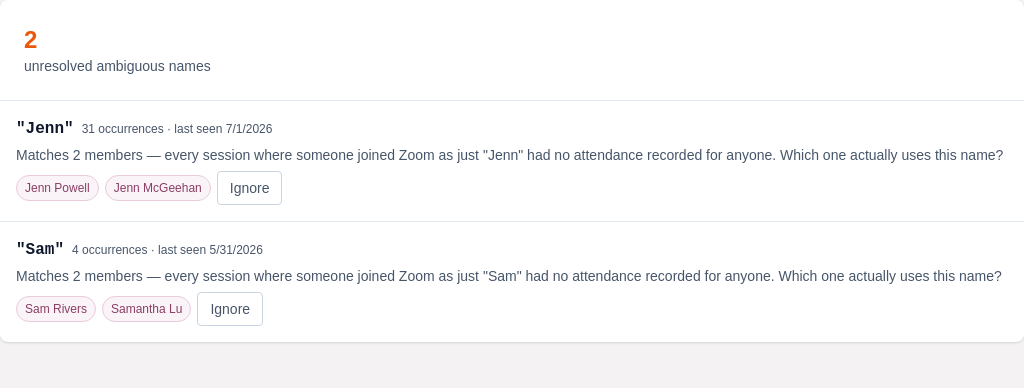
it: AmbiguousNamesResolver › shows an error and keeps the row when the request fails
The width and height of the screenshot is (1024, 388).
Click the button "Jenn Powell" at point(57, 188), box [16,175,99,201]
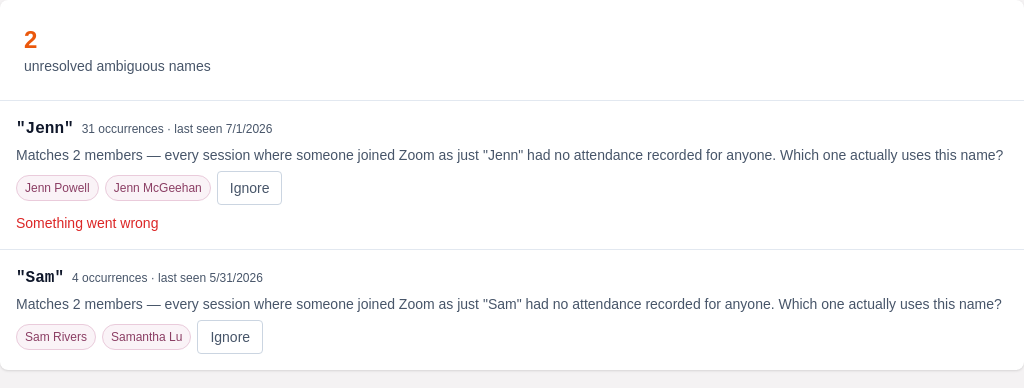
Expected: the text "\"Jenn\"" is shown, [16,117,74,141]
Expected: the text "Something went wrong" is shown, [16,215,158,231]
